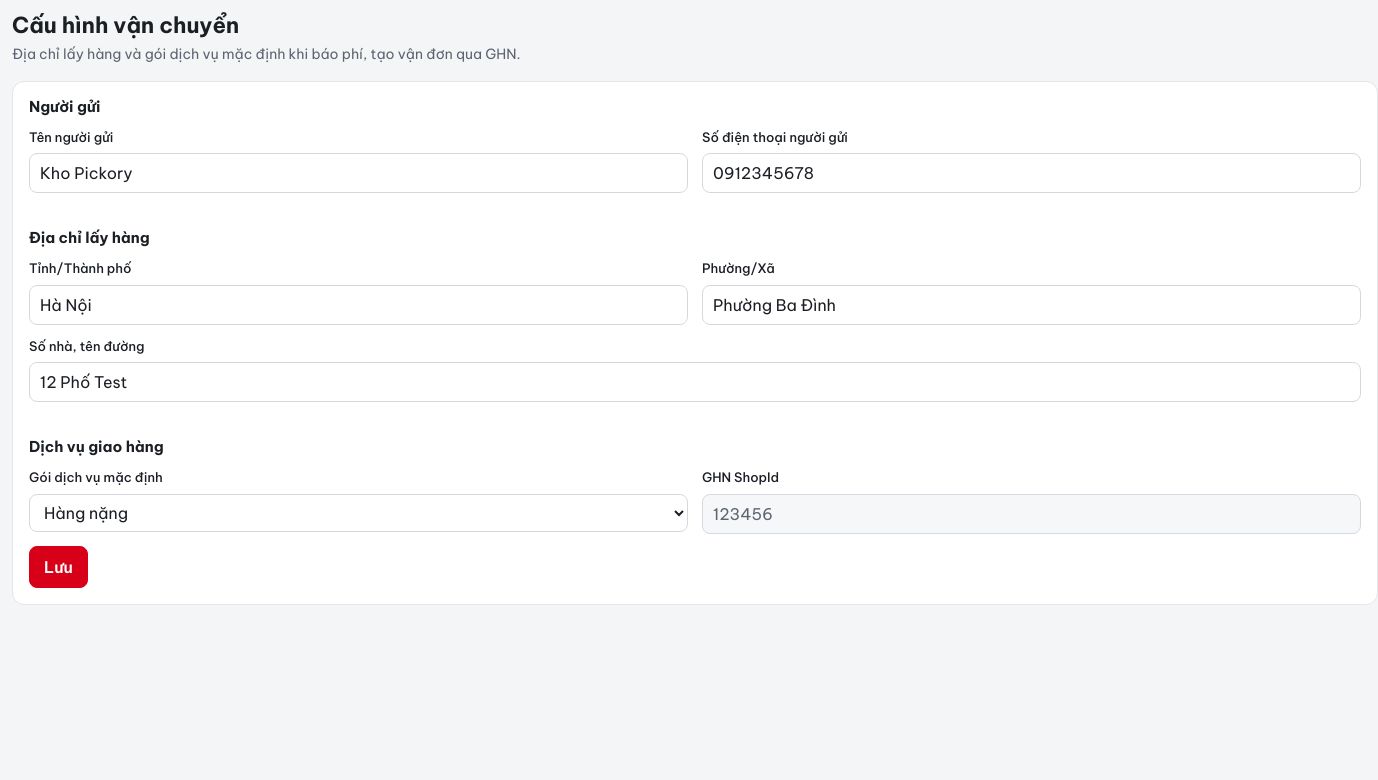
Test: ShippingSettingsPage: lưu › lỗi 400 của provinceCode hiện dưới ô tỉnh/thành, lỗi line hiện dưới ô số nhà
Click the submit button.
click(58, 566)  # box [29, 546, 88, 588]
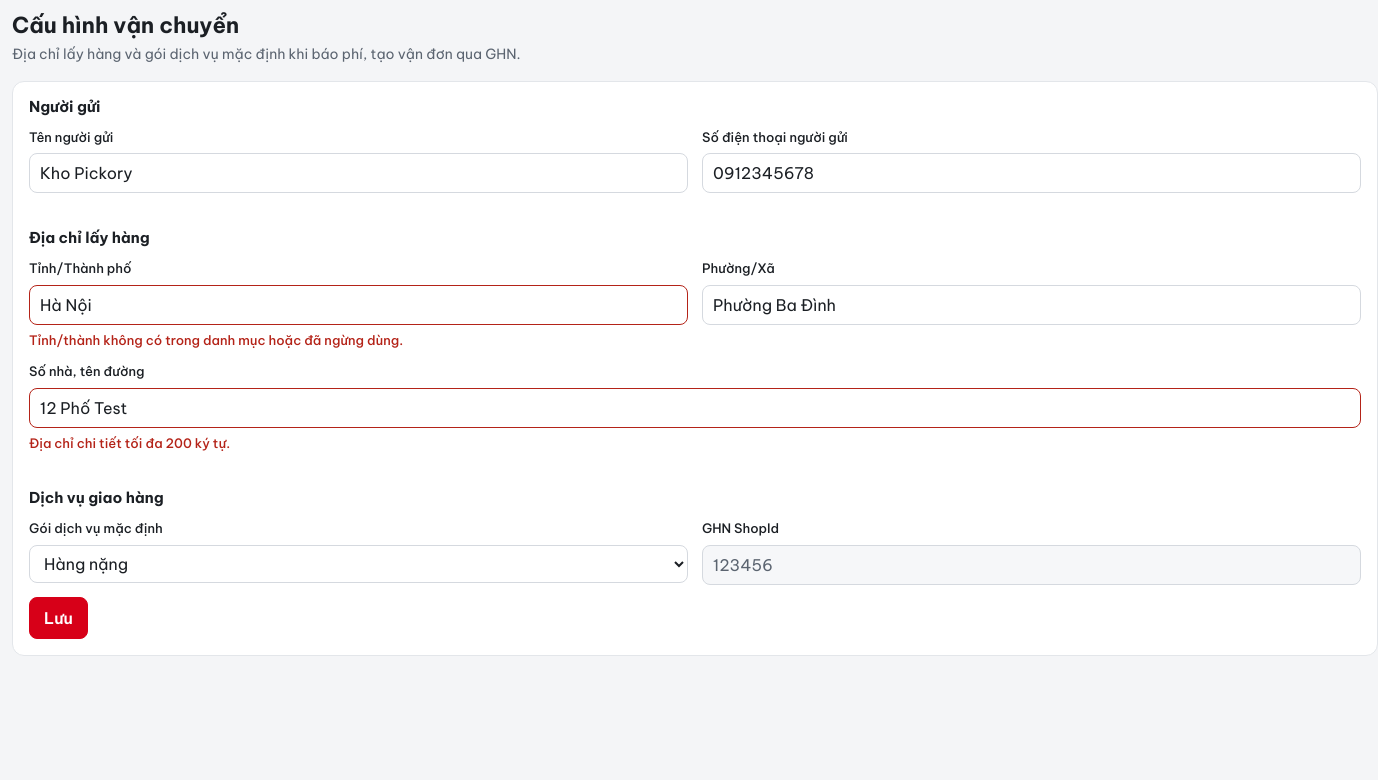
Now the text "Tỉnh/thành không có trong danh mục hoặc đã ngừng dùng." is shown, box [29, 332, 403, 348]
Now the text "Địa chỉ chi tiết tối đa 200 ký tự." is shown, box [29, 434, 230, 450]
